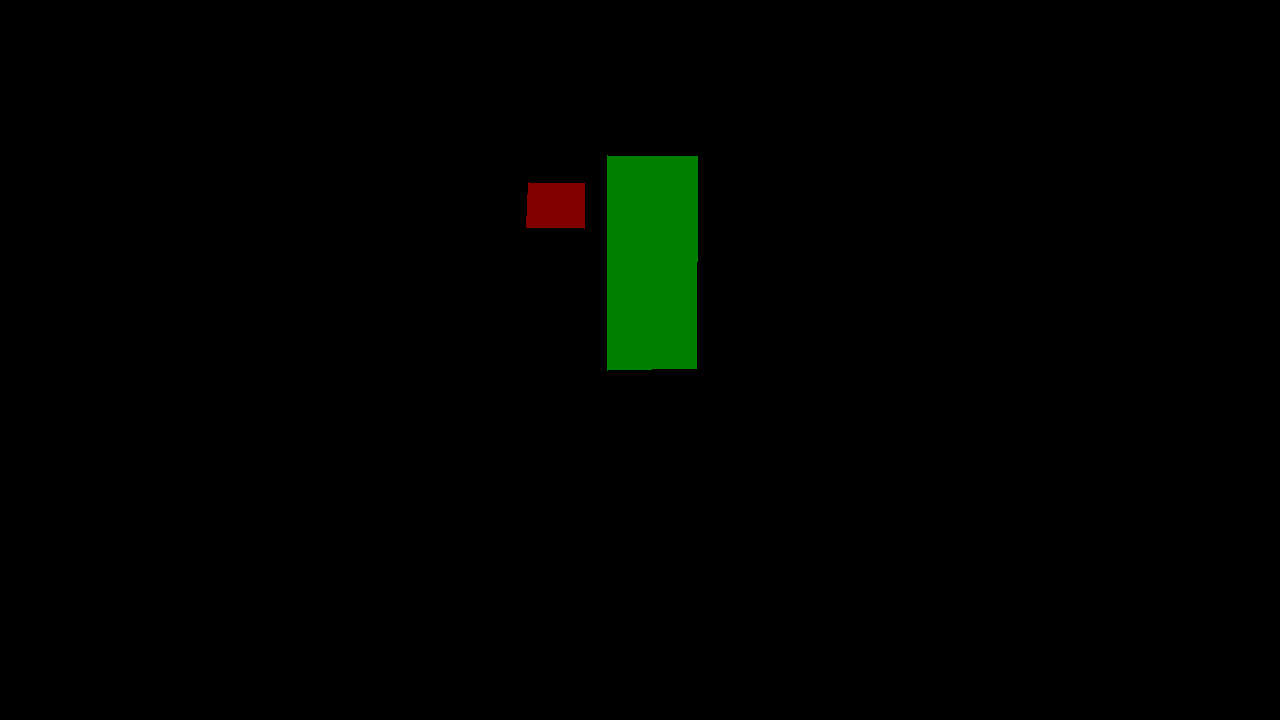door: (607, 155, 697, 370)
sign: (526, 182, 584, 228)
